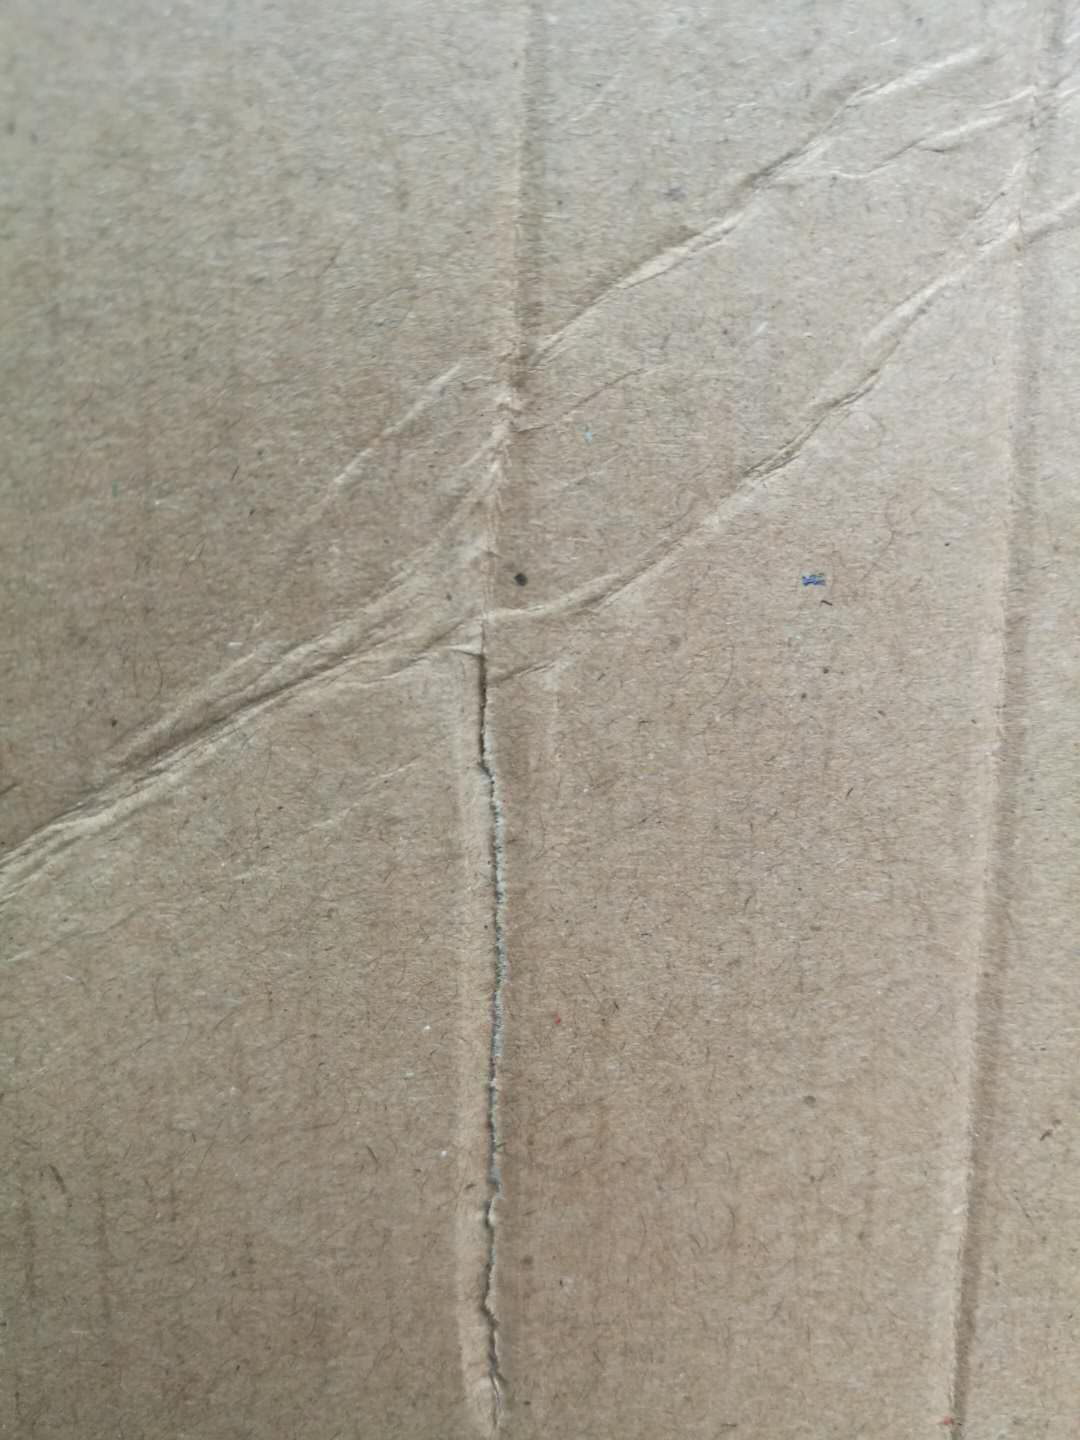defect: (5, 5, 1080, 980), (391, 1, 675, 1440), (894, 1, 1078, 1440)
